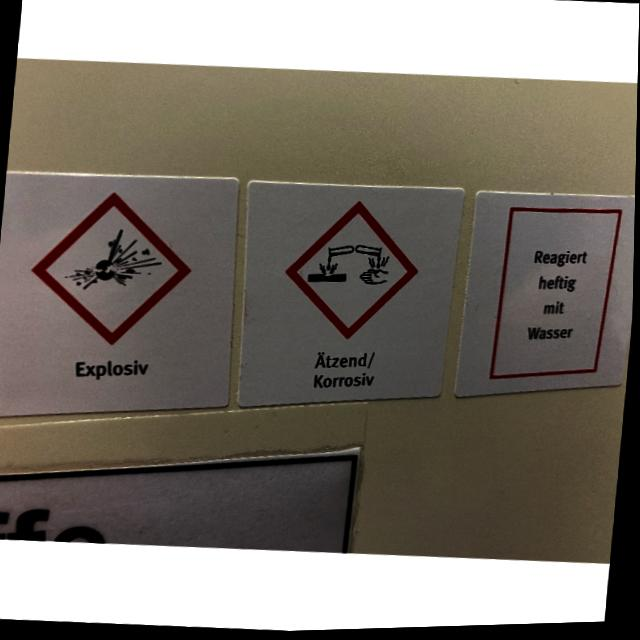corrosive: (309, 243, 393, 289)
explosive: (65, 226, 165, 295)
